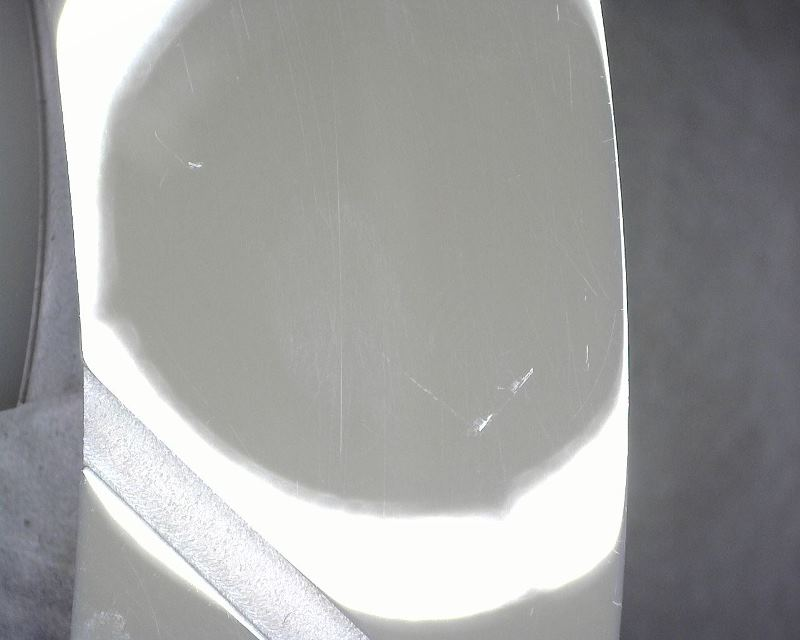scratch: (331, 78, 347, 457), (409, 372, 469, 422), (178, 43, 199, 96), (152, 128, 182, 165), (566, 38, 577, 111), (510, 367, 536, 397), (476, 411, 496, 431), (583, 342, 593, 372), (186, 155, 205, 170), (554, 6, 561, 22)
